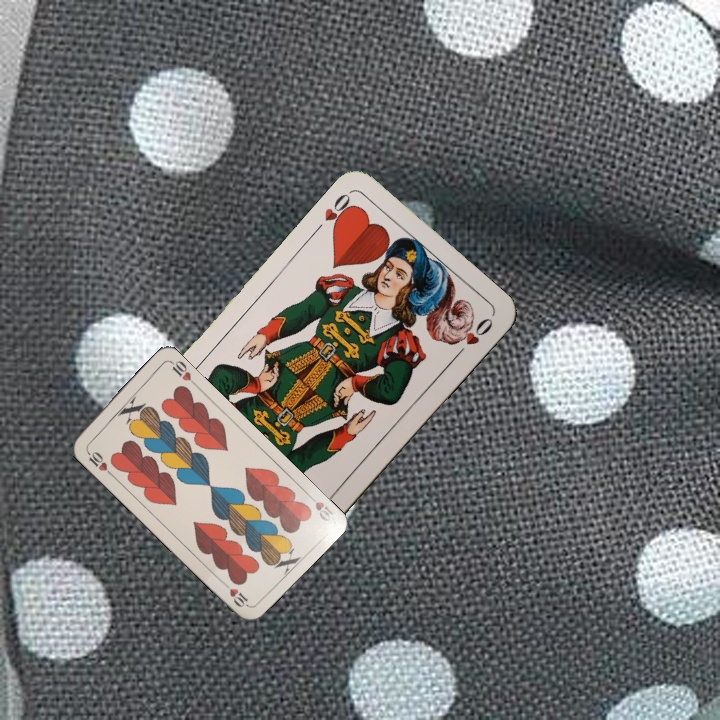H10: (303, 489, 336, 524), (82, 445, 114, 478)
HO: (309, 188, 358, 236)
